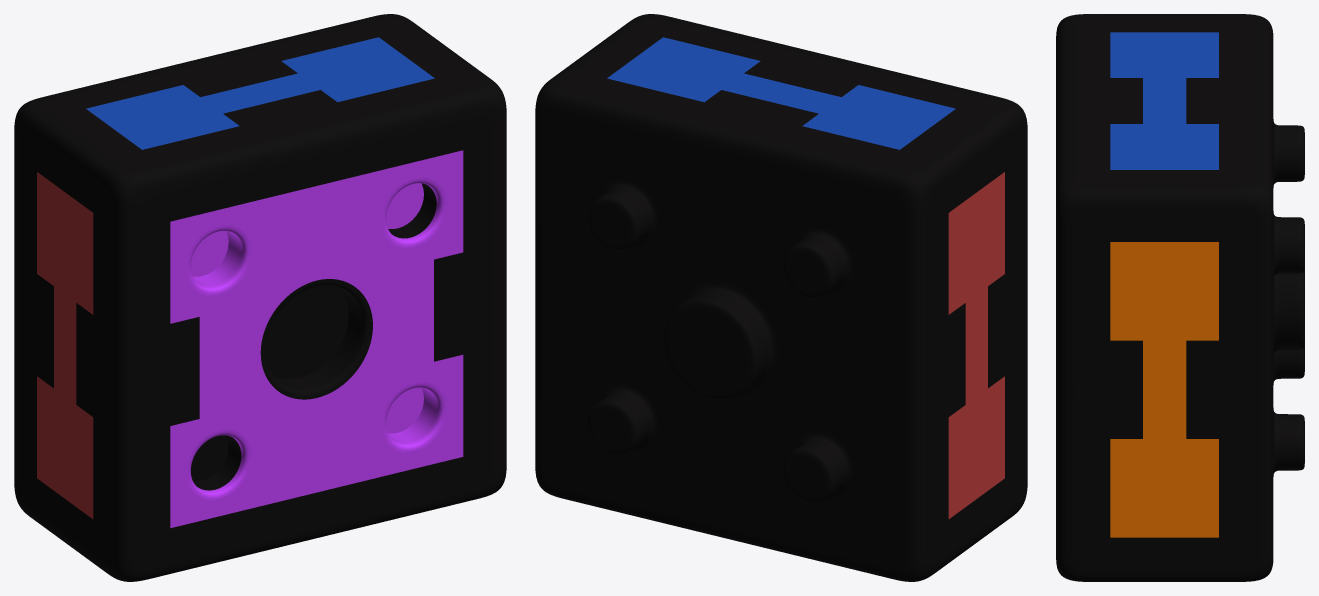
File: cube_model_z_v3_smashed.glb
The picture shows the model from 3 angles, left to right: view 1: azimuth 30°, elevation 25°; view 2: azimuth 150°, elevation 25°; view 3: azimuth 270°, elevation 25°; orthographic projection. The views are drawn at different scales.
Size of the model in its own units: 0.04 by 0.04 by 0.0229.
